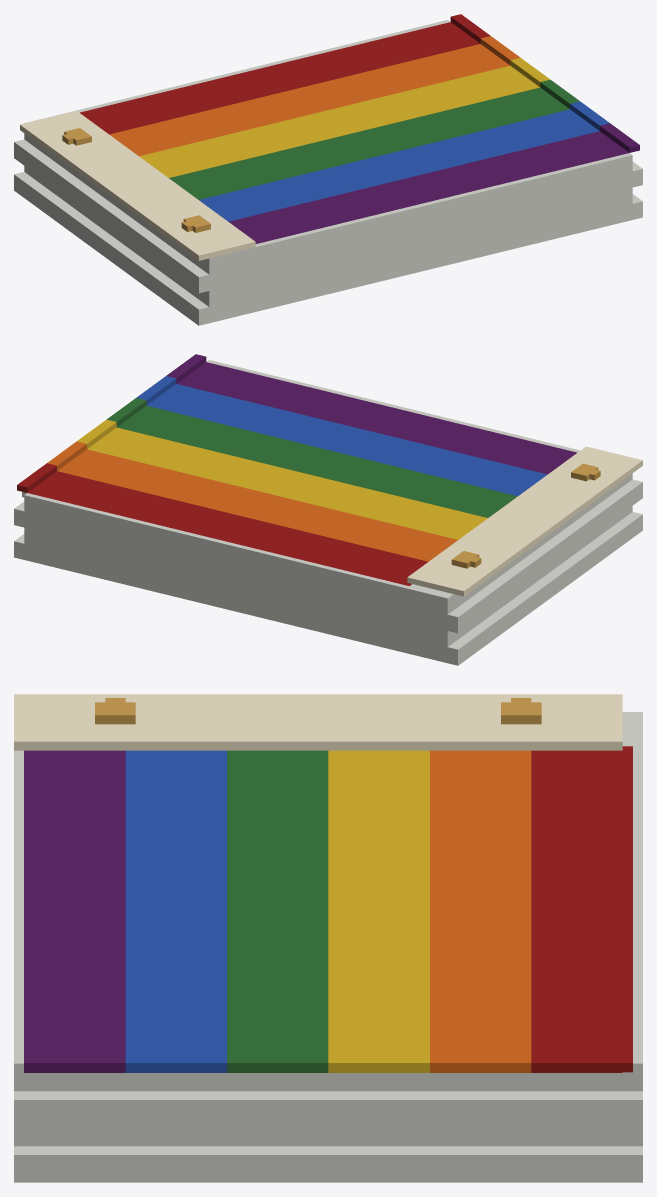
File: pride_flag.glb
The picture shows the model from 3 angles, top to bottom: view 1: azimuth 30°, elevation 25°; view 2: azimuth 150°, elevation 25°; view 3: azimuth 270°, elevation 25°; orthographic projection. The views are drawn at different scales.
Visible parts, largest first — view 1: pride_flag:compound; view 2: pride_flag:compound; view 3: pride_flag:compound.
Part boxes in pixels (x1=…): pride_flag:compound: x1=14, y1=14, x2=642, y2=325; pride_flag:compound: x1=14, y1=354, x2=642, y2=665; pride_flag:compound: x1=14, y1=694, x2=642, y2=1182.
Size of the model in its own units: 0.344 by 0.056 by 0.248.
